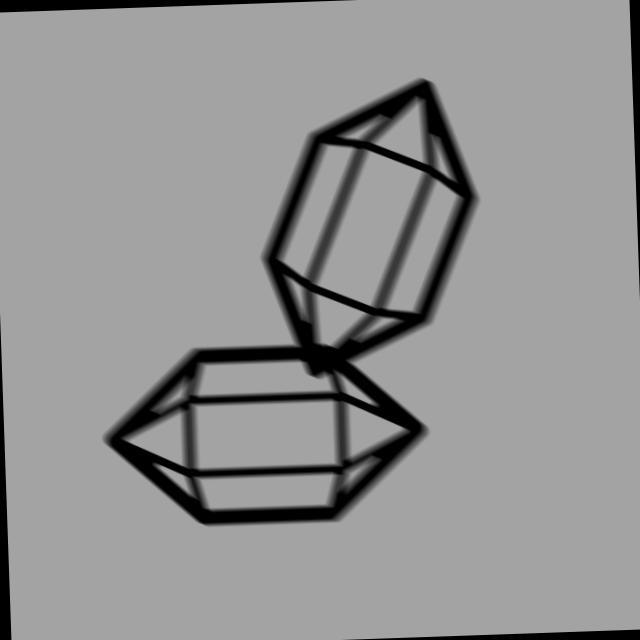crystal: (245, 69, 496, 391), (88, 326, 443, 544)
